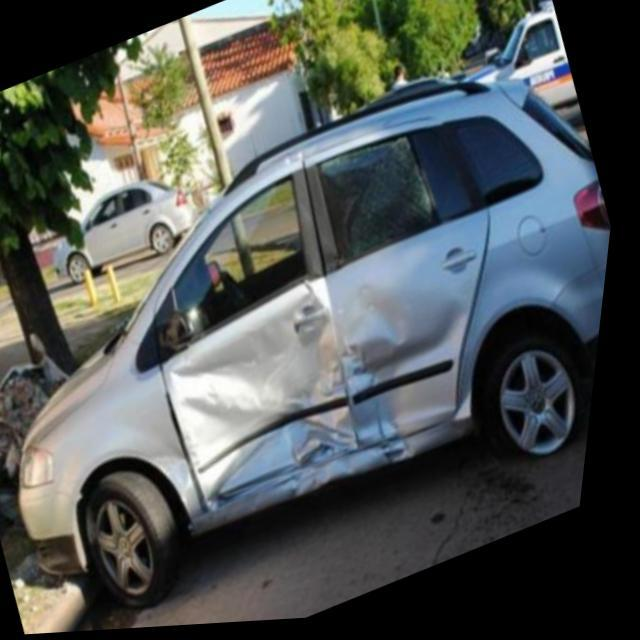dent: (170, 281, 475, 529), (286, 148, 326, 170)
glass shatter: (317, 141, 447, 273)
